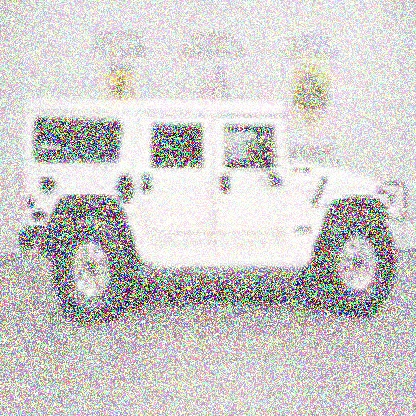Vehicle: (18, 90, 413, 335)
